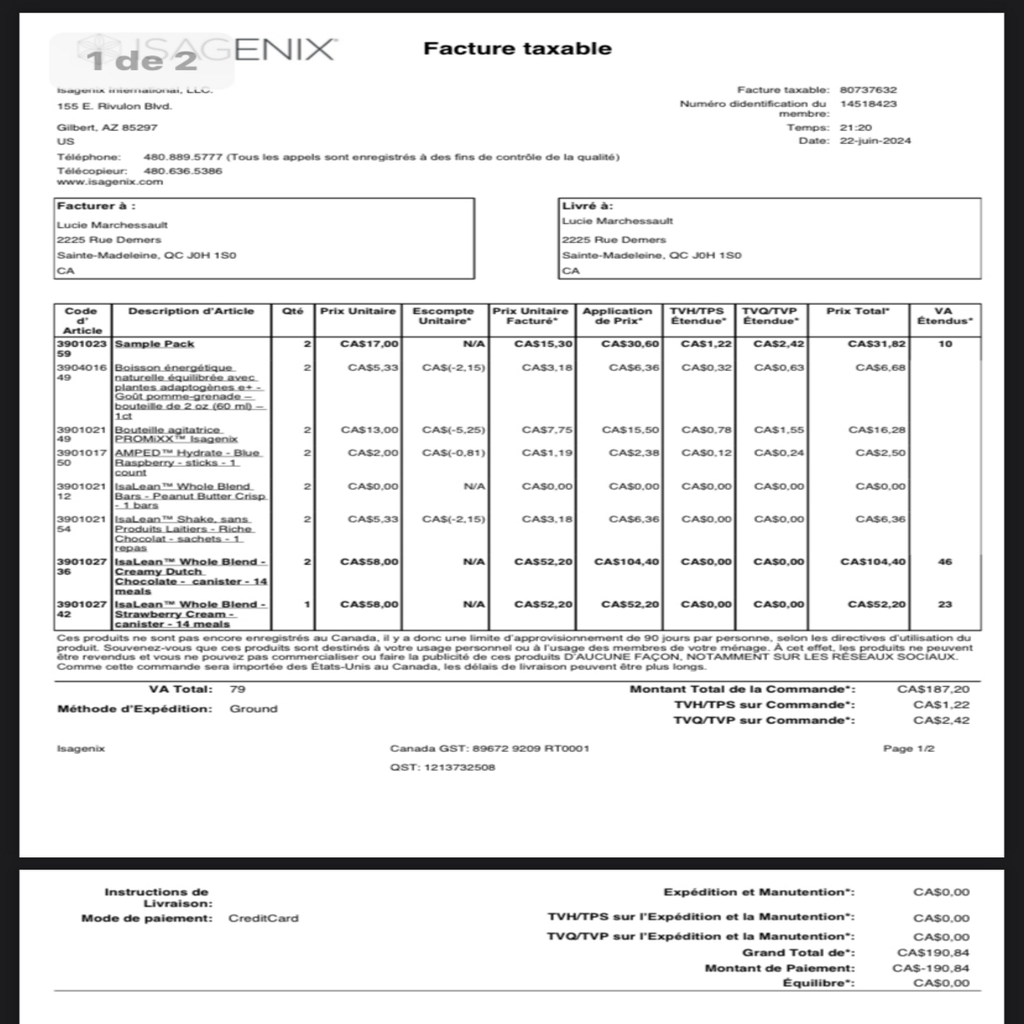recipt: (21, 15, 1001, 1022)
